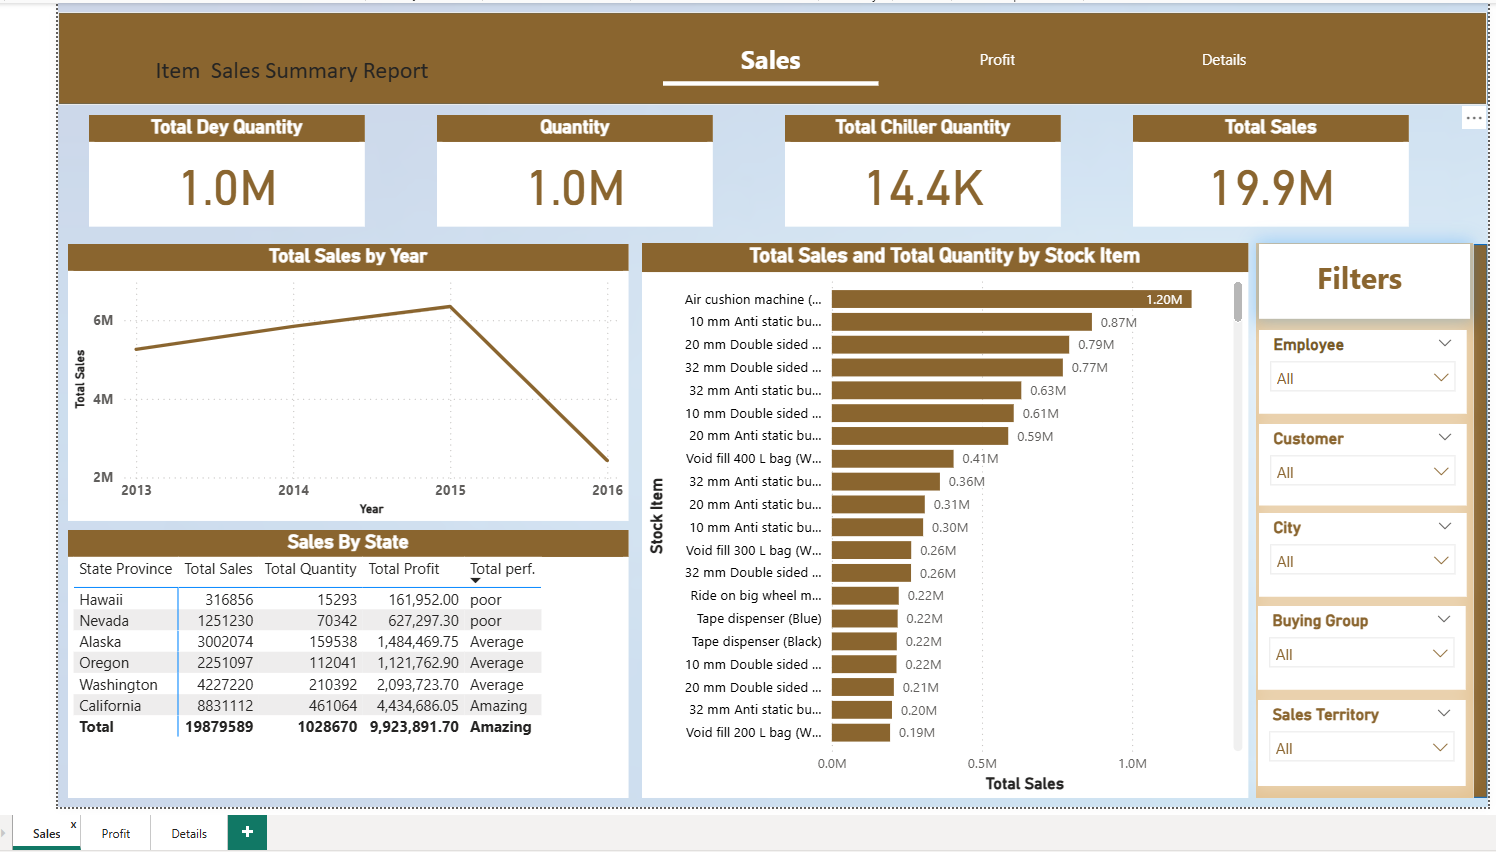

The dashboard page shown, as its layout file describes it:
{"tool":"powerbi","page":{"name":"Sales ","canvas":[1280,720],"ordinal":0},"visuals":[{"type":"shape","box":[0,7.9,1280,83.2],"z":0},{"type":"shape","box":[1260.5,215.9,19.5,496],"z":1000},{"type":"shape","box":[1072.8,215,194.5,497],"z":2000},{"type":"textbox","box":[0,41.8,424.1,41.8],"z":3000},{"type":"card","title":"Total Sales ","fields":{"Values":["Sum(FactSale.Total Excluding Tax)"]},"box":[962.9,100.2,247.1,100.2],"z":4000},{"type":"card","title":"Quantity ","fields":{"Values":["Sum(FactSale.Quantity)"]},"box":[339.8,100.2,247.1,100.2],"z":5000},{"type":"card","title":"Total Chiller Quantity ","fields":{"Values":["Sum(FactSale.Total Chiller Items)"]},"box":[651.3,100.2,247.1,100.2],"z":6000},{"type":"card","title":"Total Dey Quantity","fields":{"Values":["Sum(FactSale.Total Dry Items)"]},"box":[28.2,100.2,247.1,100.2],"z":7000},{"type":"textbox","box":[1075.9,215.9,188.7,67.1],"z":8000},{"type":"lineChart","fields":{"Category":["DimData.Date.Variation.Date Hierarchy.Year","DimData.Date.Variation.Date Hierarchy.Quarter","DimData.Date.Variation.Date Hierarchy.Month","DimData.Date.Variation.Date Hierarchy.Day"],"Y":["Sum(FactSale.Total Excluding Tax)"]},"box":[8.8,215.9,501.9,248],"z":9000},{"type":"barChart","fields":{"Y":["Sum(FactSale.Total Excluding Tax)"],"Category":["DimStockltem.Stock Item"]},"box":[523.3,215,542.7,497],"z":10000},{"type":"pivotTable","title":"Sales By State ","fields":{"Values":["Sum(FactSale.Total Excluding Tax)","Sum(FactSale.Quantity)","Sum(FactSale.Profit)","FactSale.Sales perf."],"Rows":["Dimcity.State Province"]},"box":[8.8,471.7,501.9,240.2],"z":11000},{"type":"slicer","fields":{"Values":["DimEmployee.Employee"]},"box":[1075.7,292.8,185.8,74.9],"z":12000},{"type":"slicer","fields":{"Values":["DimCustomer.Customer"]},"box":[1075.7,377.4,185.8,72.9],"z":13000},{"type":"slicer","fields":{"Values":["Dimcity.City"]},"box":[1075.7,457.1,185.8,74.9],"z":14000},{"type":"slicer","fields":{"Values":["DimCustomer.Buying Group"]},"box":[1074.8,539.8,185.8,74.9],"z":15000},{"type":"slicer","fields":{"Values":["Dimcity.Sales Territory"]},"box":[1074.8,624.4,185.8,76.8],"z":16000},{"type":"pageNavigator","box":[541.9,24.8,600.4,49.5],"z":17000}]}

Visuals, with their boxes on the page's 1280x720 design canvas (x1, y1, x2, y2). These are canvas units, not pixel positions in the 1496x852 screenshot, which may show the page scaled, cropped or inside an application window:
shape: Rect(0, 8, 1280, 91)
shape: Rect(1260, 216, 1280, 712)
shape: Rect(1073, 215, 1267, 712)
textbox: Rect(0, 42, 424, 84)
"Total Sales " card: Rect(963, 100, 1210, 200)
"Quantity " card: Rect(340, 100, 587, 200)
"Total Chiller Quantity " card: Rect(651, 100, 898, 200)
"Total Dey Quantity" card: Rect(28, 100, 275, 200)
textbox: Rect(1076, 216, 1265, 283)
lineChart - DimData.Date.Variation.Date Hierarchy.Year x DimData.Date.Variation.Date Hierarchy.Quarter: Rect(9, 216, 511, 464)
barChart - Sum(FactSale.Total Excluding Tax) x DimStockltem.Stock Item: Rect(523, 215, 1066, 712)
"Sales By State " pivotTable: Rect(9, 472, 511, 712)
slicer - DimEmployee.Employee: Rect(1076, 293, 1262, 368)
slicer - DimCustomer.Customer: Rect(1076, 377, 1262, 450)
slicer - Dimcity.City: Rect(1076, 457, 1262, 532)
slicer - DimCustomer.Buying Group: Rect(1075, 540, 1261, 615)
slicer - Dimcity.Sales Territory: Rect(1075, 624, 1261, 701)
pageNavigator: Rect(542, 25, 1142, 74)
